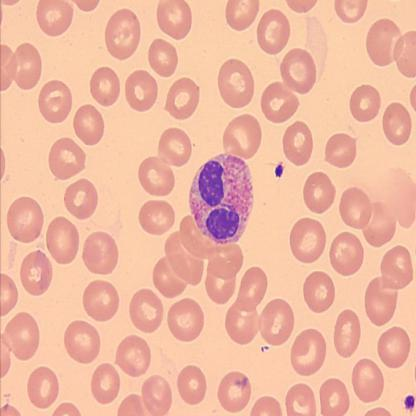Eosinophil: (189, 154, 255, 242)
